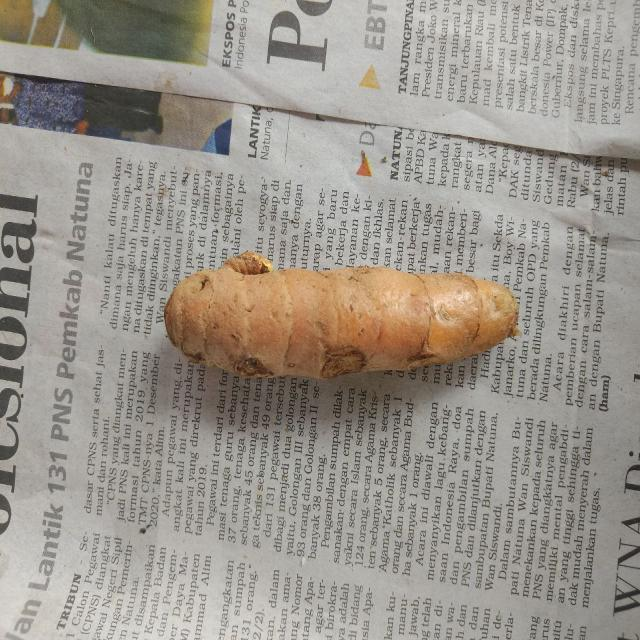ginger: (162, 231, 520, 402)
